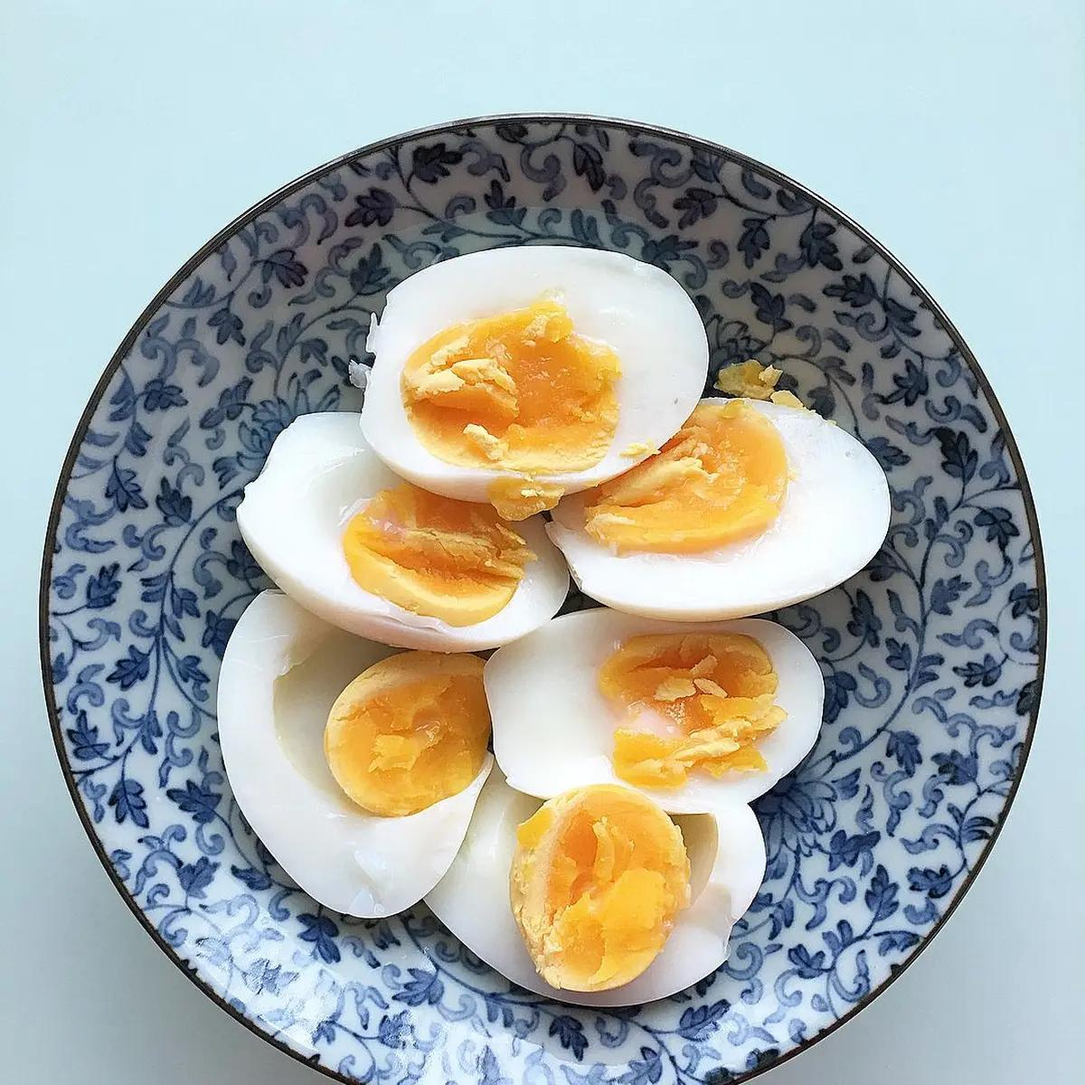telur: (398, 274, 632, 468), (508, 640, 774, 787), (284, 655, 447, 882), (473, 829, 713, 962), (604, 483, 816, 600), (279, 527, 547, 595)
